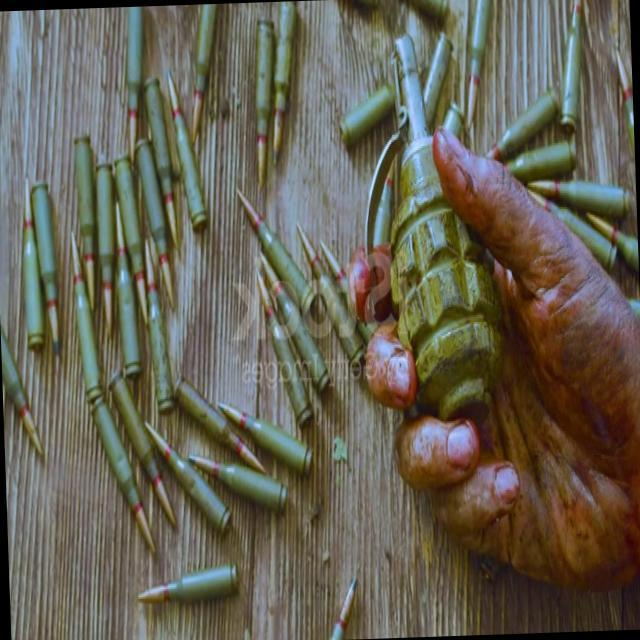grenade: (377, 26, 508, 426)
